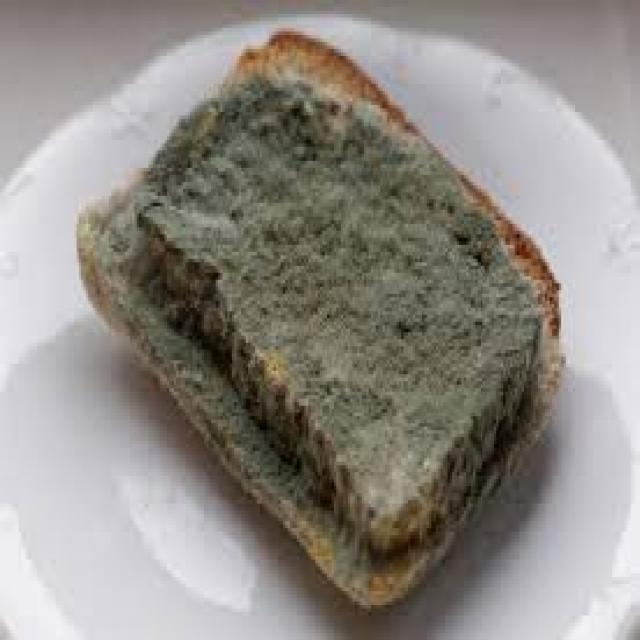organic waste: (72, 28, 561, 612)
